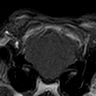Brain: (27, 33, 76, 78)
